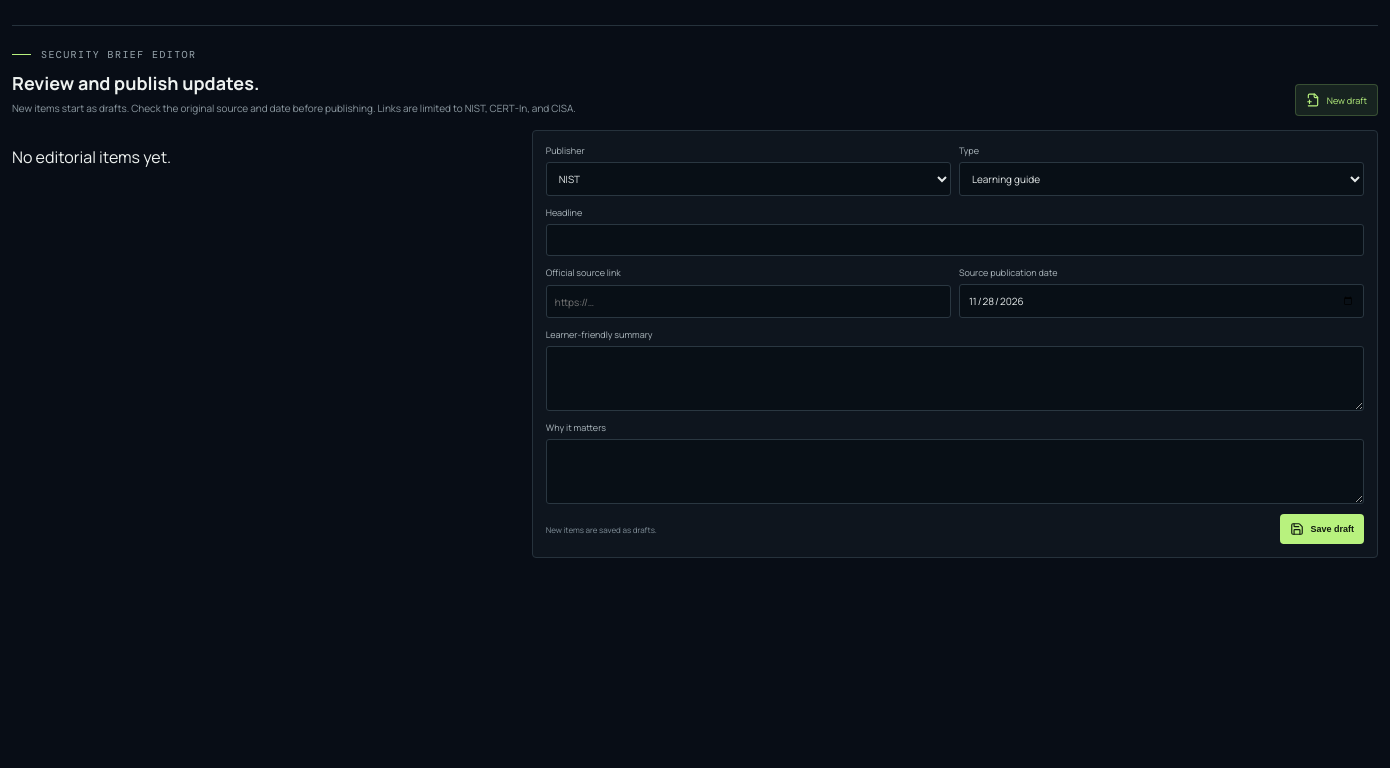
Scenario: security brief editor › creates a draft through the admin API without publishing it
The width and height of the screenshot is (1390, 768).
Type "A useful official cybersecurity learning guide" into the field labelled "Headline" at (955,240), box [546,224,1364,256]
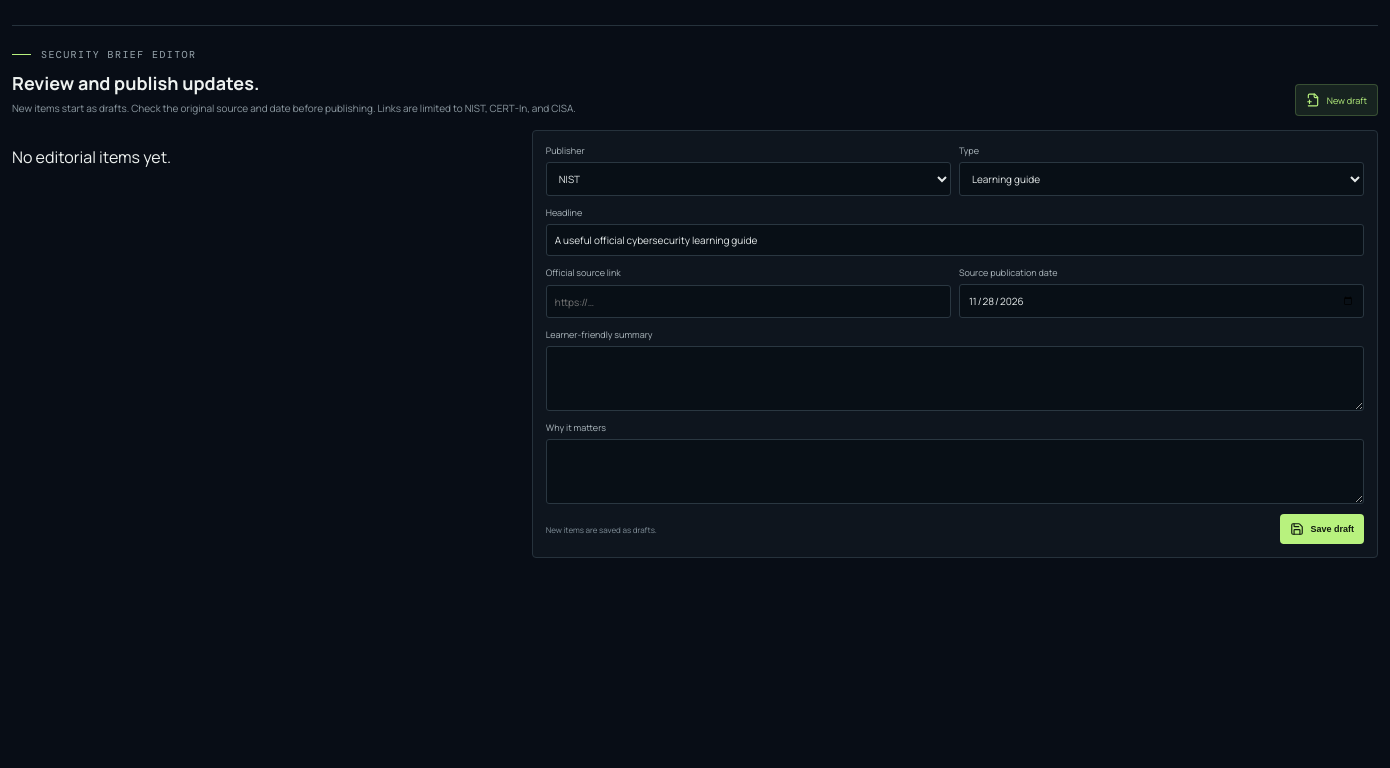
Type "https://www.nist.gov/news-events/news/2026/11/guide" into the field labelled "Official source link" at (748,302), box [546,285,951,318]
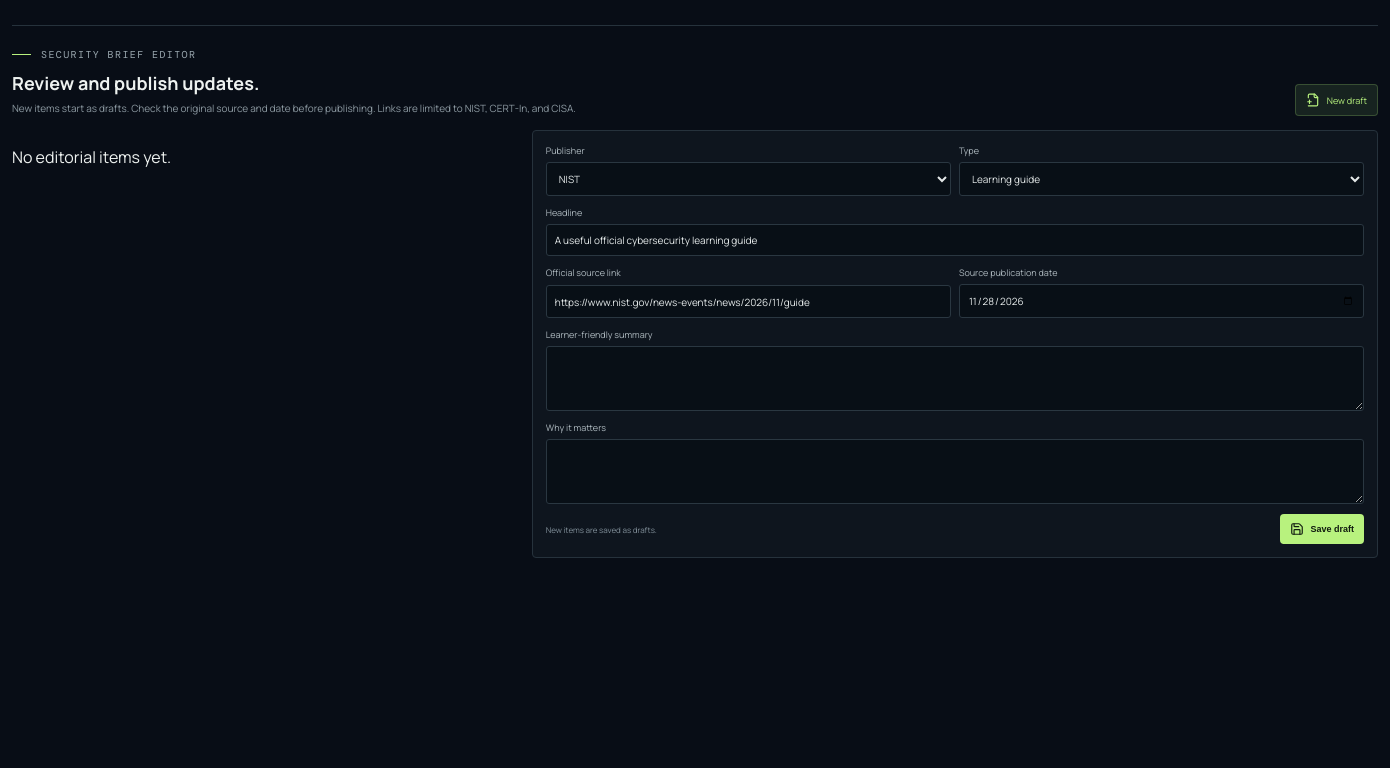
Type "An official guide that helps learners understand practical cybersecurity basics." into the text box labelled "Learner-friendly summary" at (955,378), box [546,346,1364,411]
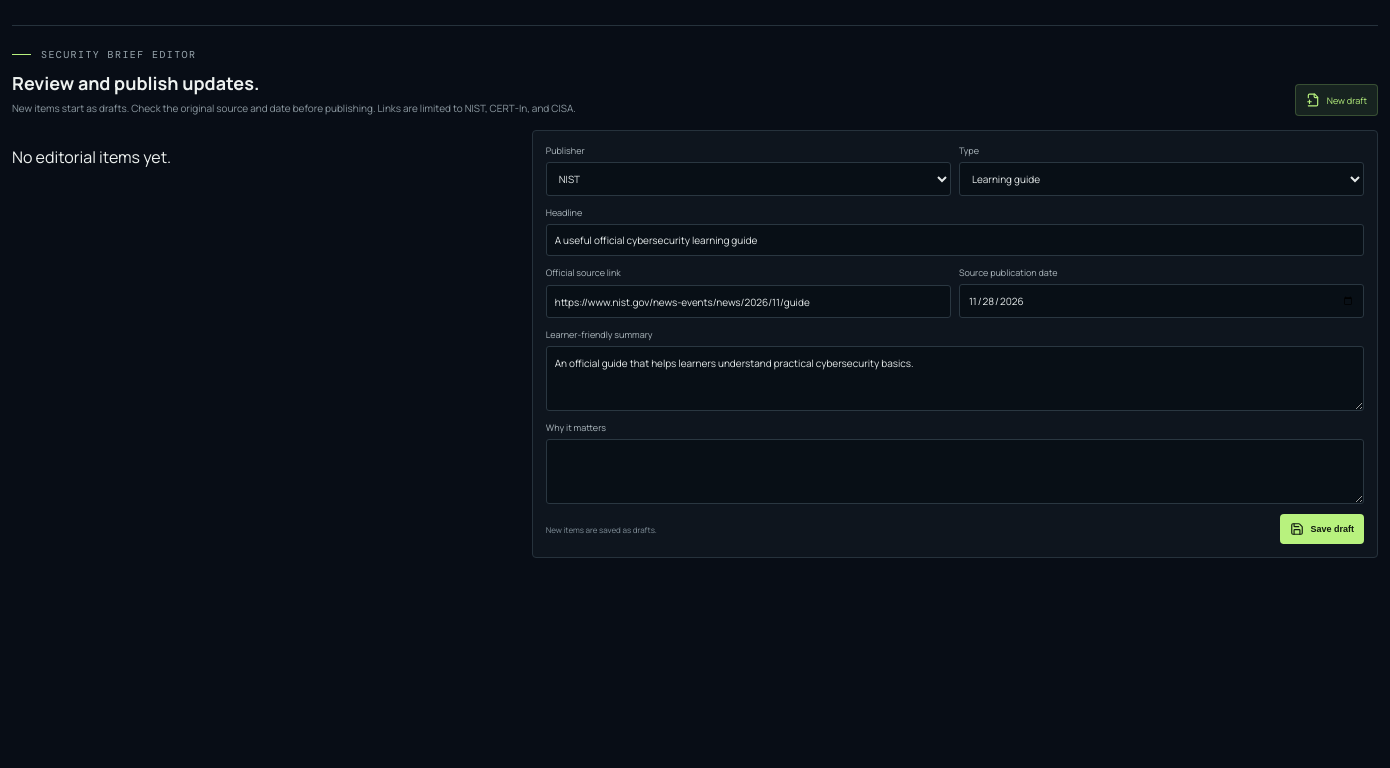
Type "Start with a clear inventory and choose safeguards based on likely harm." into the text box labelled "Why it matters" at (955,472), box [546,439,1364,504]
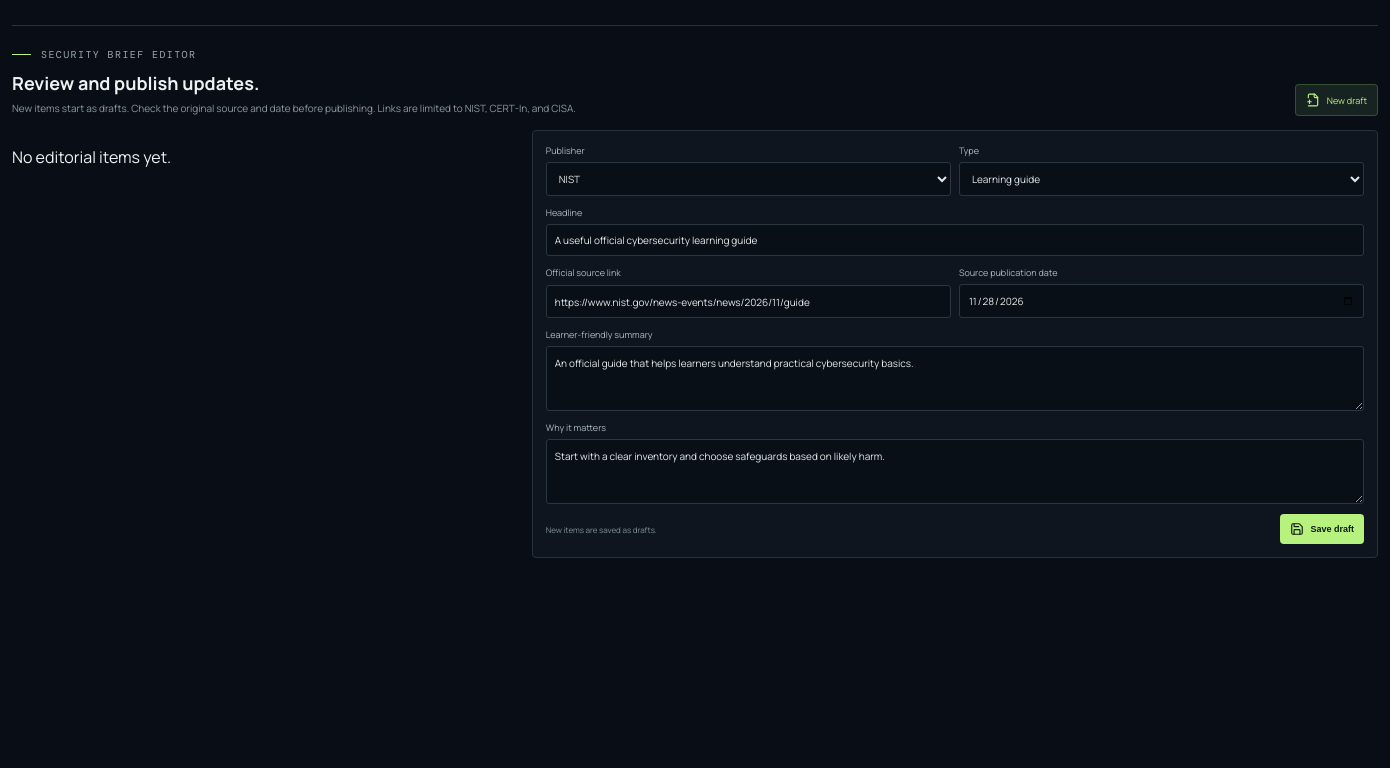
Click the button "Save draft" at (1322,529), box [1280,514,1364,544]
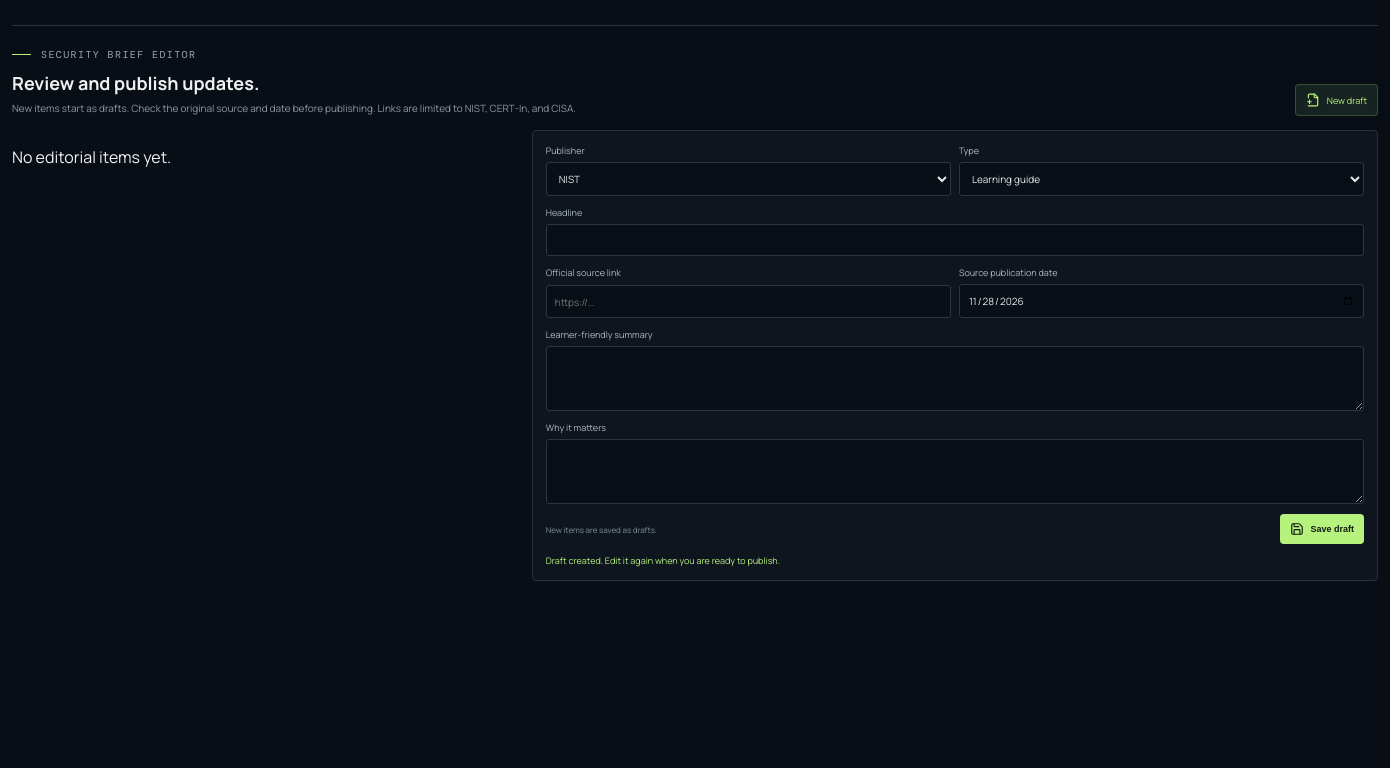
Check: the text "Draft created. Edit it again when you are ready to publish." is shown, box [546,554,780,567]
